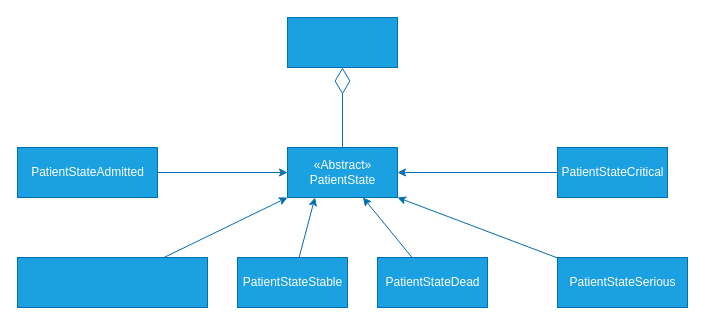
Image size: 705x325. Some labels were removed from this diagram. The shapes that lost their labels are listed below. From the top down, each one's centre as x and y in pixels, then its label:
point (342, 42): Patient
point (112, 282): PatientStateRecovered
